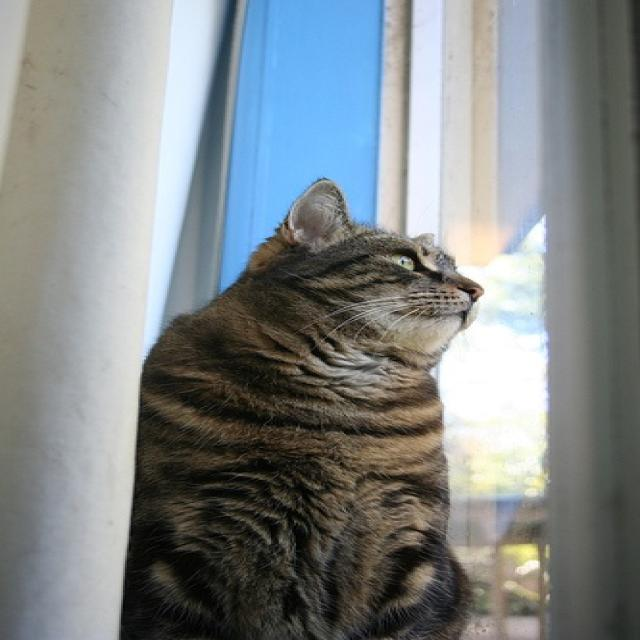cat: (121, 182, 492, 638)
